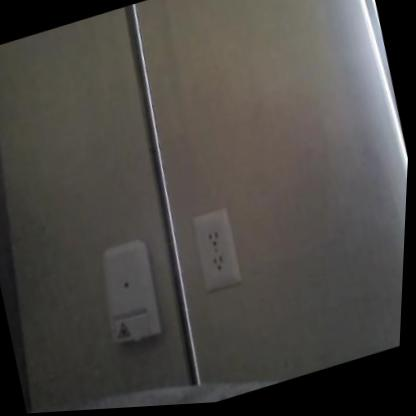OUTLET: (189, 206, 245, 292)
